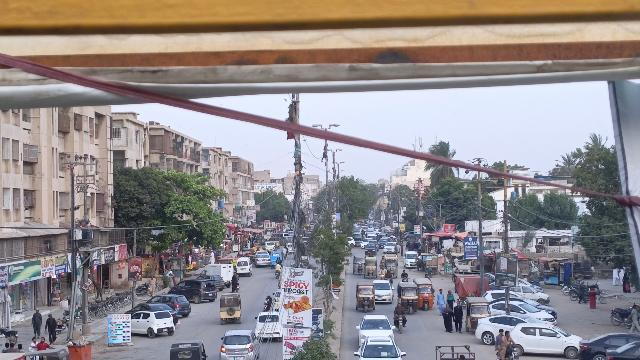Bike: (494, 343, 522, 360), (393, 314, 409, 333), (230, 282, 241, 292)
Car: (510, 322, 584, 358), (577, 328, 635, 360), (475, 314, 527, 344), (218, 328, 259, 360), (354, 335, 405, 360), (169, 278, 218, 304), (131, 311, 177, 337), (355, 315, 396, 344), (253, 311, 282, 342), (372, 278, 394, 306)
Person: (44, 313, 58, 341), (440, 303, 453, 333), (453, 300, 465, 332), (502, 328, 516, 355), (31, 307, 43, 337), (494, 326, 505, 357), (435, 285, 445, 315), (445, 288, 457, 309), (393, 301, 407, 318), (231, 274, 238, 289)
Rickshaw: (463, 296, 489, 334), (353, 280, 378, 313), (219, 294, 245, 325), (169, 340, 207, 360), (414, 276, 436, 310), (398, 281, 418, 315)
Truck: (206, 263, 234, 283)
